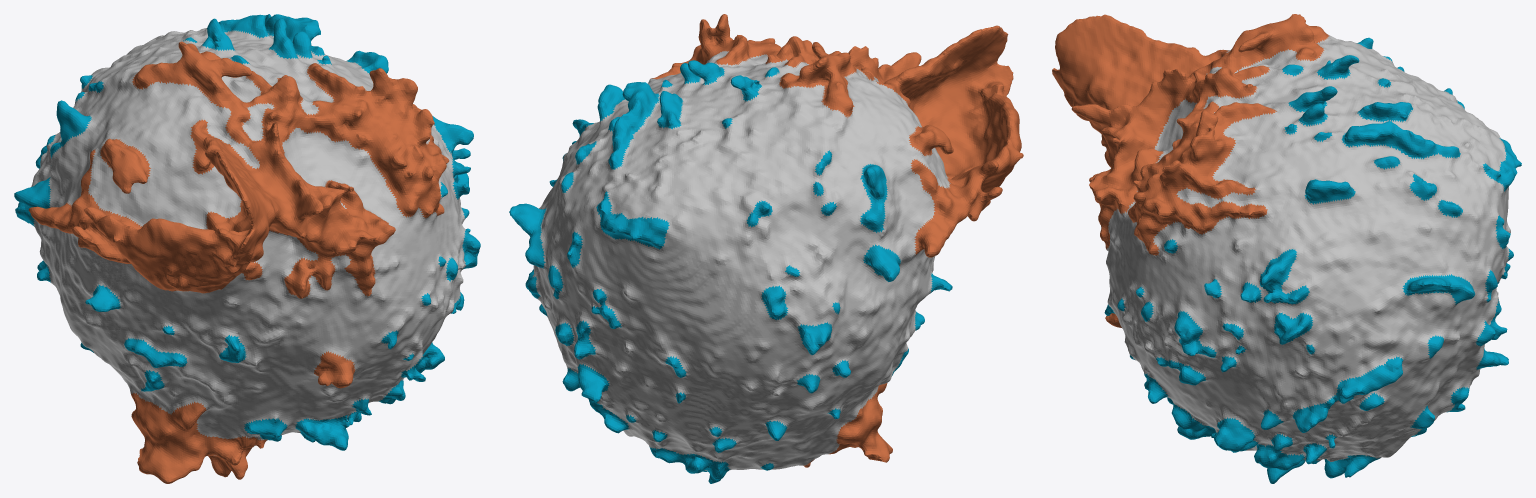
3 views of the same model, side by side, from view 1: azimuth 30°, elevation 25°; view 2: azimuth 150°, elevation 25°; view 3: azimuth 270°, elevation 25° (orthographic). The views are drawn at different scales.
Size of the model in its own units: 168 by 163 by 167.
